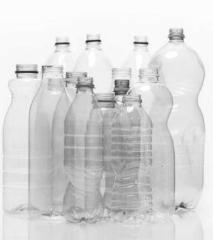plastic: (148, 28, 206, 210), (126, 68, 176, 214), (27, 66, 70, 216), (62, 78, 104, 222), (3, 62, 42, 214), (72, 33, 114, 94), (124, 34, 152, 86), (42, 34, 76, 76)
